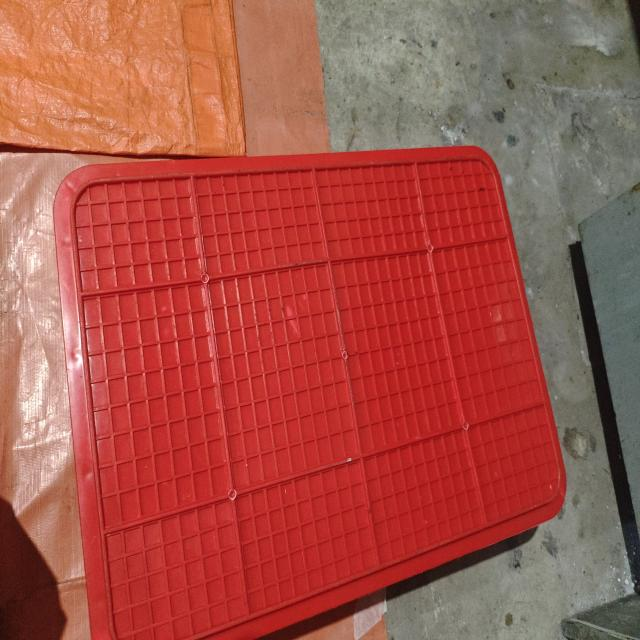red plastic box: (53, 145, 567, 640)
